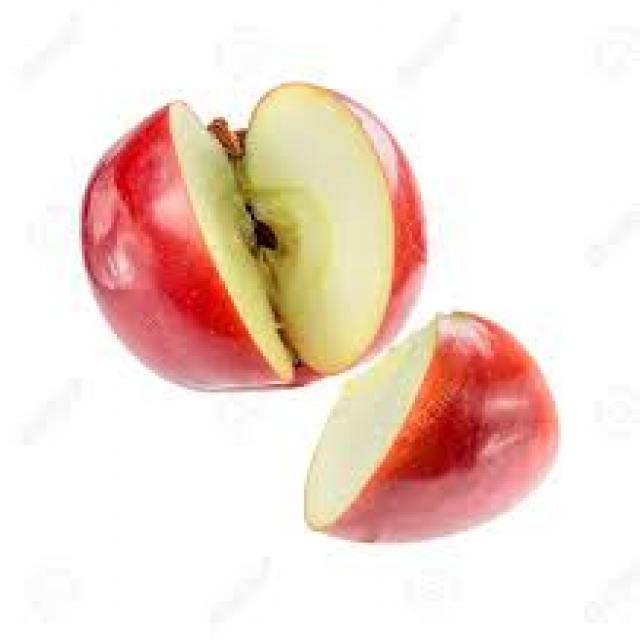Apple: (80, 80, 427, 390), (327, 312, 559, 549)
